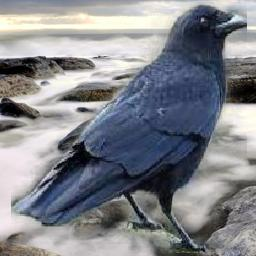Crow: (11, 3, 247, 254)
